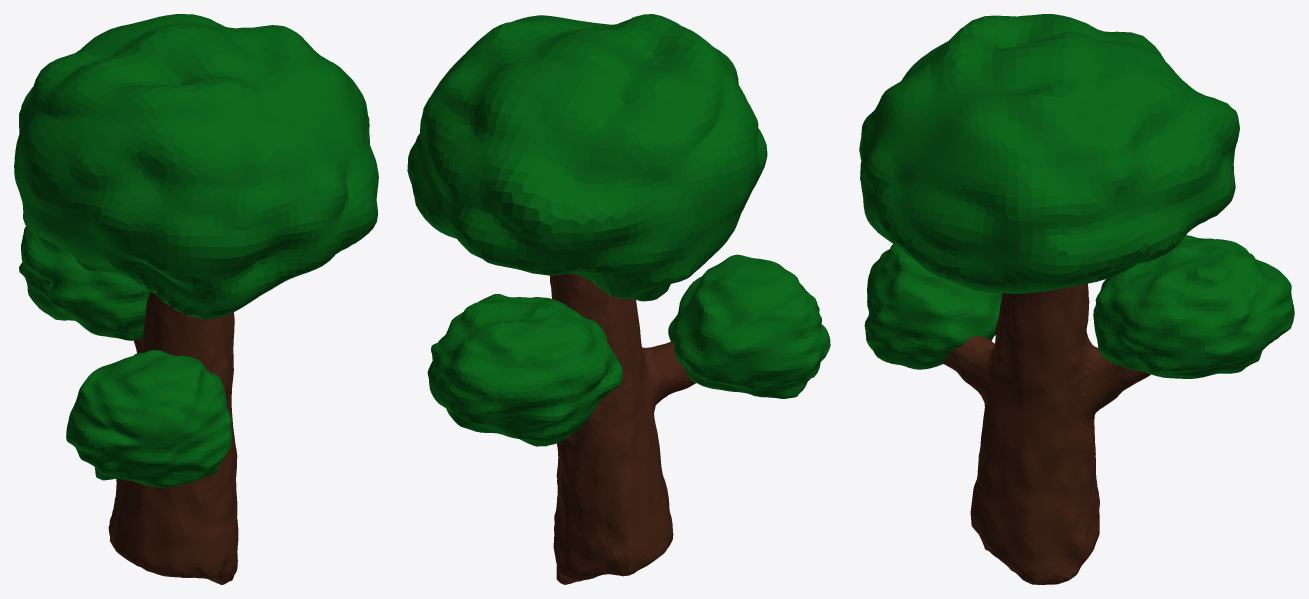
File: large tree.fbx
3 renders of one model, left to right at view 1: azimuth 30°, elevation 25°; view 2: azimuth 150°, elevation 25°; view 3: azimuth 270°, elevation 25°, orthographic. The views are drawn at different scales.
Visible parts, largest first — view 1: Sphere; view 2: Sphere; view 3: Sphere.
Part boxes in pixels (bbox=[...]): Sphere: bbox=[14, 14, 378, 584]; Sphere: bbox=[407, 14, 830, 584]; Sphere: bbox=[859, 14, 1294, 584].
Size of the model in its own units: 599 by 678 by 916.
